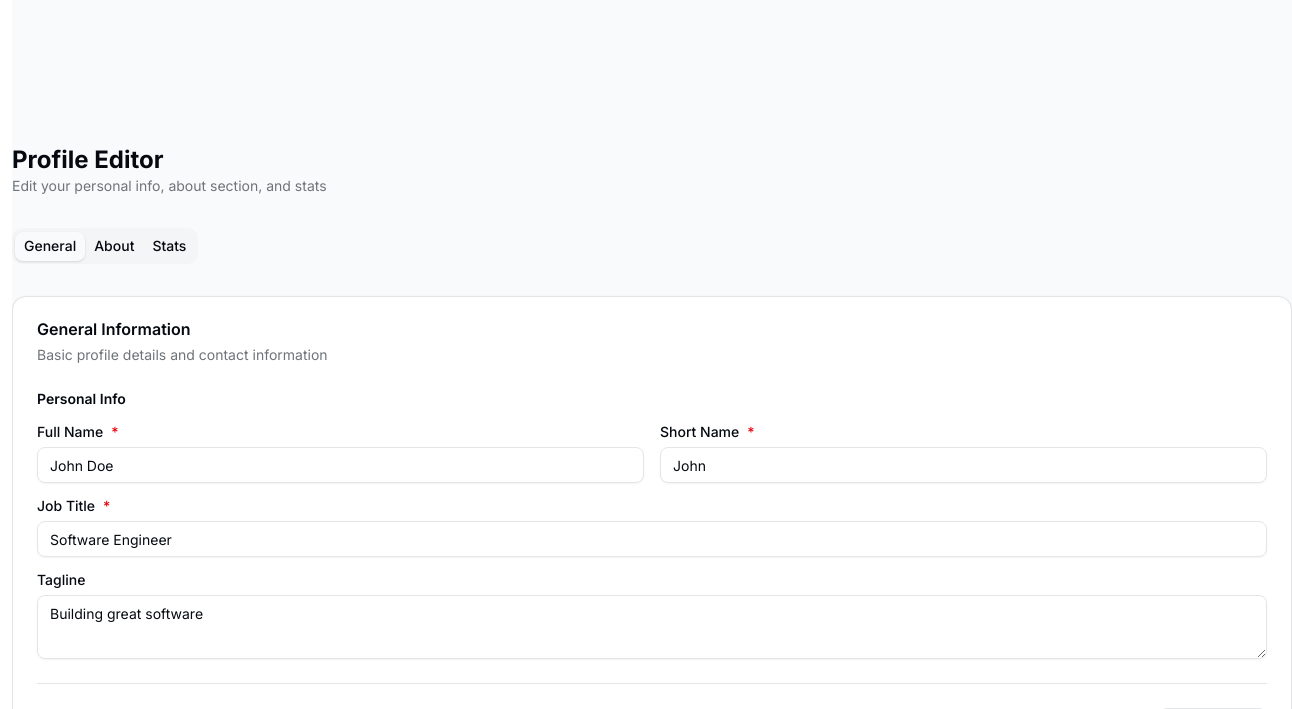
Scenario: ProfileForm › adds a new stat row
Click the tab "Stats": {"x": 169, "y": 246} [143,232,195,260]
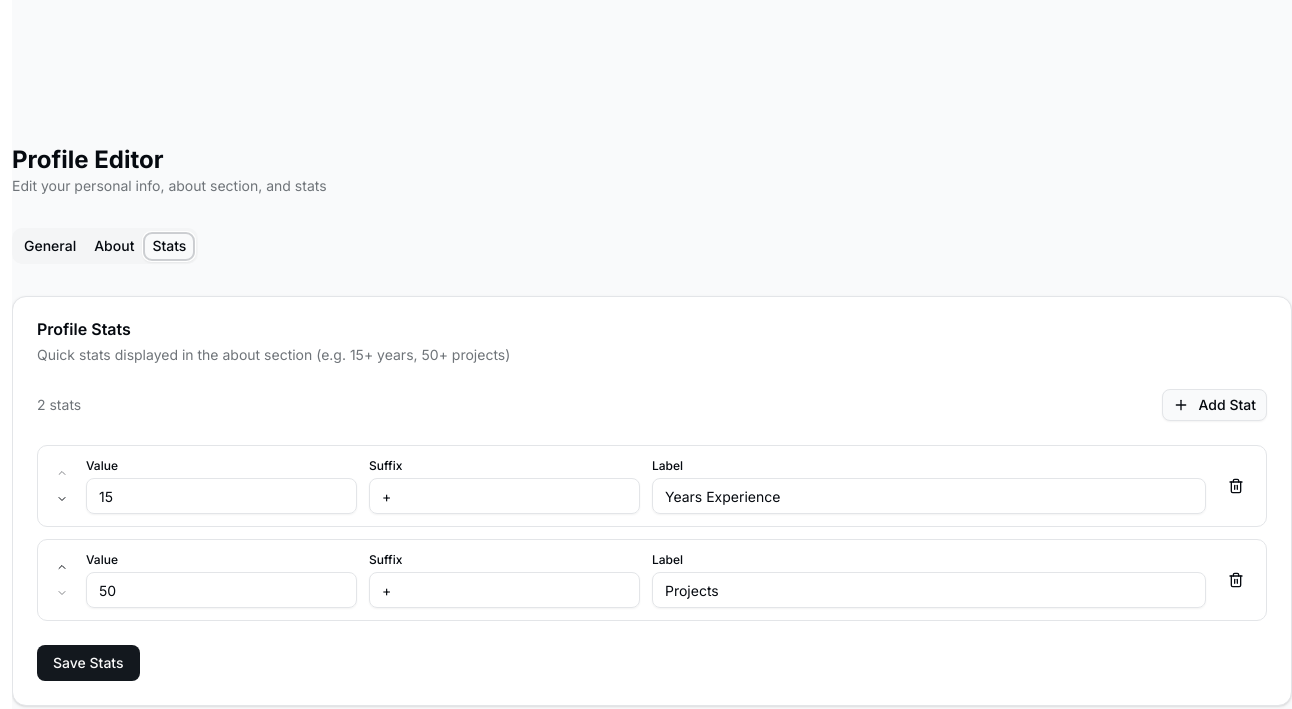
Click the button "Add Stat": {"x": 1214, "y": 405} [1162,389,1267,421]
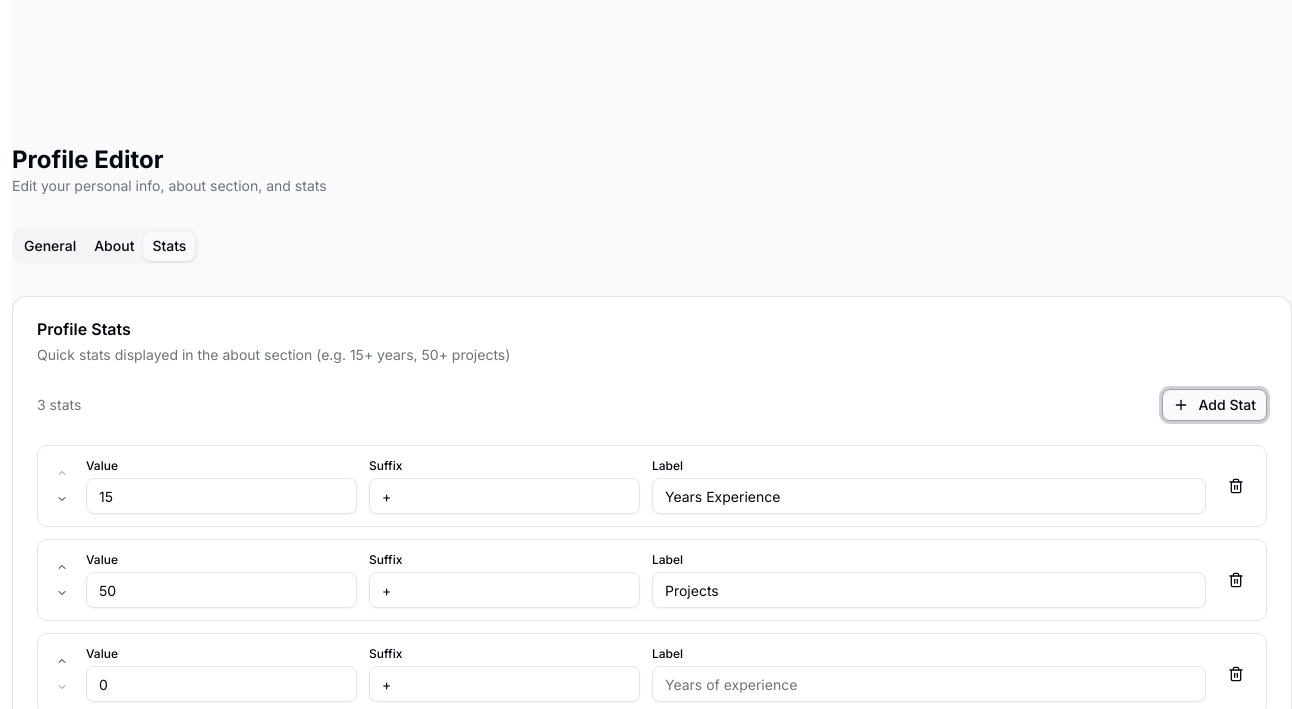
Now the text "3 stats" is shown, box [37,395,81,415]
